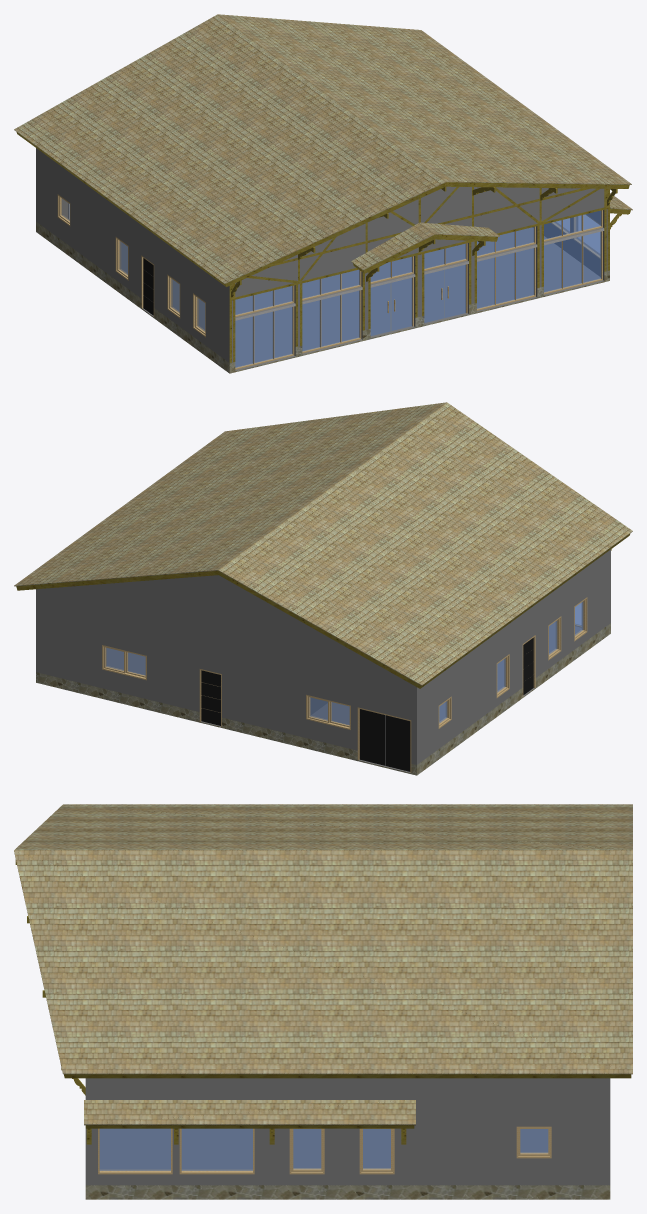
The model's file is locales magnolias.glb.
The picture shows the model from 3 angles, top to bottom: view 1: azimuth 30°, elevation 25°; view 2: azimuth 150°, elevation 25°; view 3: azimuth 270°, elevation 25°; orthographic projection. The views are drawn at different scales.
Visible parts, largest first — view 1: object 30, object 1, VLF#1 (×4), PP (×2), VLF (×4), object 33, VDF (×2), PS, VG; view 2: object 30, object 1, PSD, VD (×2), PS (×2); view 3: object 30, object 1, object 51, VG (×2), VR (×2), VC.
Part boxes in pixels (x1=…): object 30: x1=14, y1=14, x2=631, y2=286; object 1: x1=36, y1=148, x2=609, y2=373; VLF#1 (×4): x1=235, y1=231, x2=602, y2=369; PP (×2): x1=370, y1=264, x2=467, y2=335; VLF (×4): x1=235, y1=210, x2=602, y2=316; object 33: x1=351, y1=222, x2=499, y2=273; VDF (×2): x1=370, y1=243, x2=467, y2=283; PS: x1=141, y1=255, x2=154, y2=316; VG: x1=573, y1=214, x2=600, y2=259; object 30: x1=14, y1=402, x2=632, y2=688; object 1: x1=36, y1=549, x2=610, y2=775; PSD: x1=357, y1=707, x2=411, y2=772; VD (×2): x1=102, y1=645, x2=350, y2=729; PS (×2): x1=199, y1=635, x2=535, y2=726; object 30: x1=14, y1=804, x2=632, y2=1078; object 1: x1=85, y1=1078, x2=610, y2=1199; object 51: x1=84, y1=1100, x2=415, y2=1128; VG (×2): x1=98, y1=1128, x2=254, y2=1174; VR (×2): x1=289, y1=1128, x2=394, y2=1174; VC: x1=516, y1=1126, x2=551, y2=1158.
Bounding box in the file's own units: 18.61 × 7.05 × 17.7.
8 materials, 5 textured.
